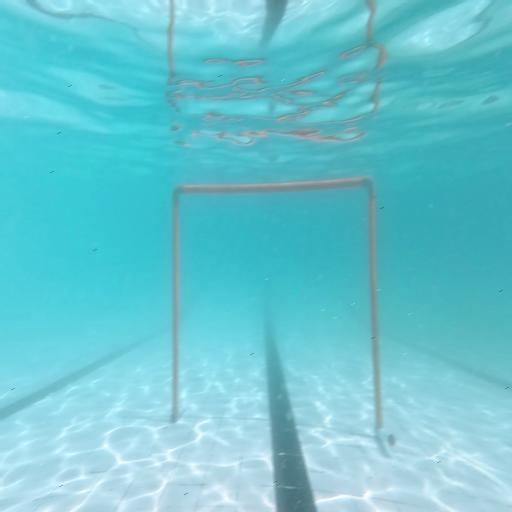gate: (170, 175, 396, 446)
